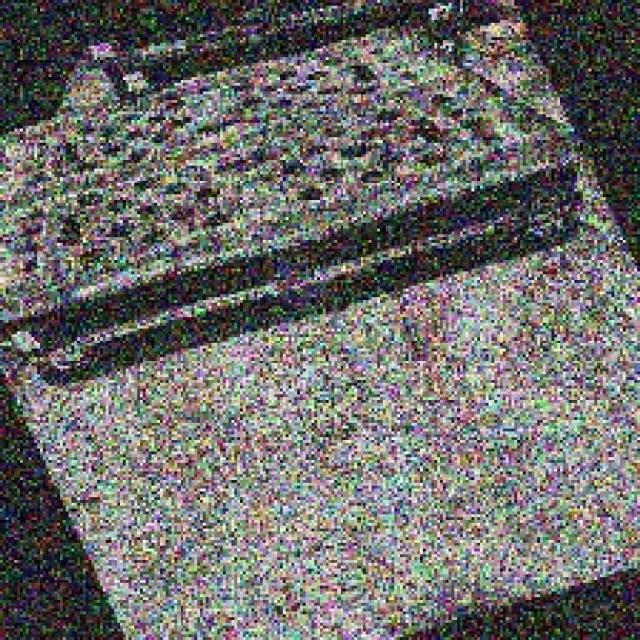igps: (0, 17, 598, 371), (19, 194, 592, 396)
